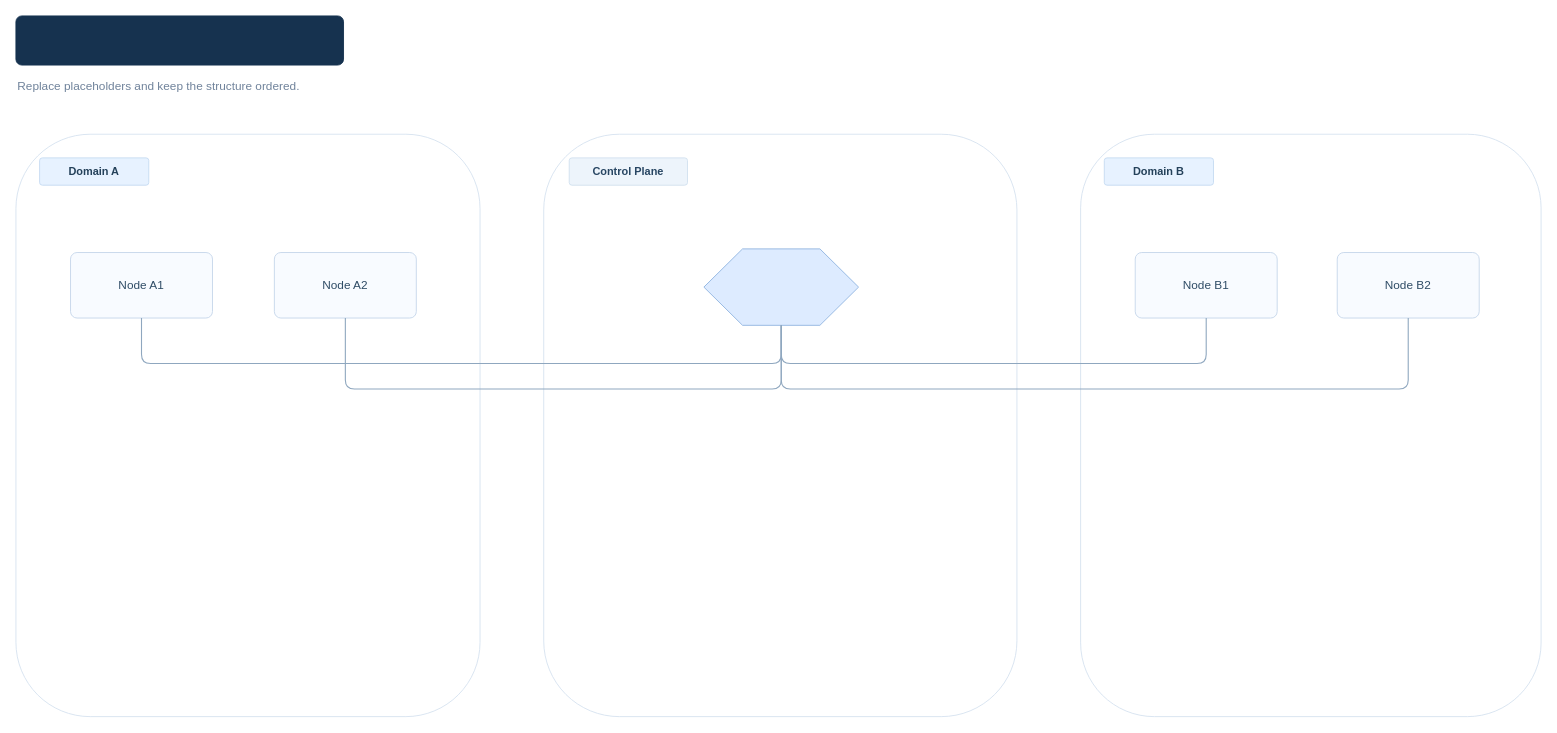
Image size: 1557x733. Some labels were removed from this diagram. Here are the shapes that lost their labels. From the top down, the centre of each, then its label:
[179,40]: System Blueprint
[781,286]: Gateway
